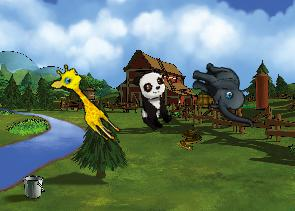elephant: (184, 60, 263, 128)
giraffe: (45, 60, 130, 145)
panda: (130, 67, 177, 133)
